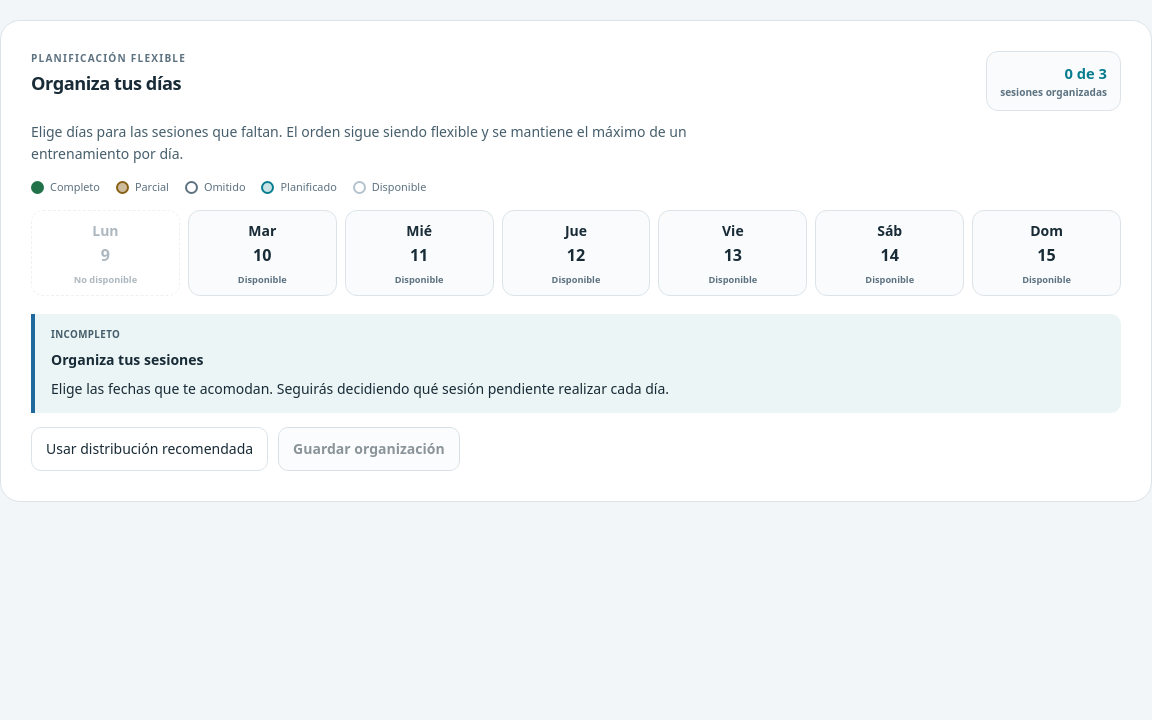
WeeklyTrainingPlanner › applies the spaced recommendation and saves it
Click the button "Usar distribución recomendada" at (150,449), box [31,427,268,471]
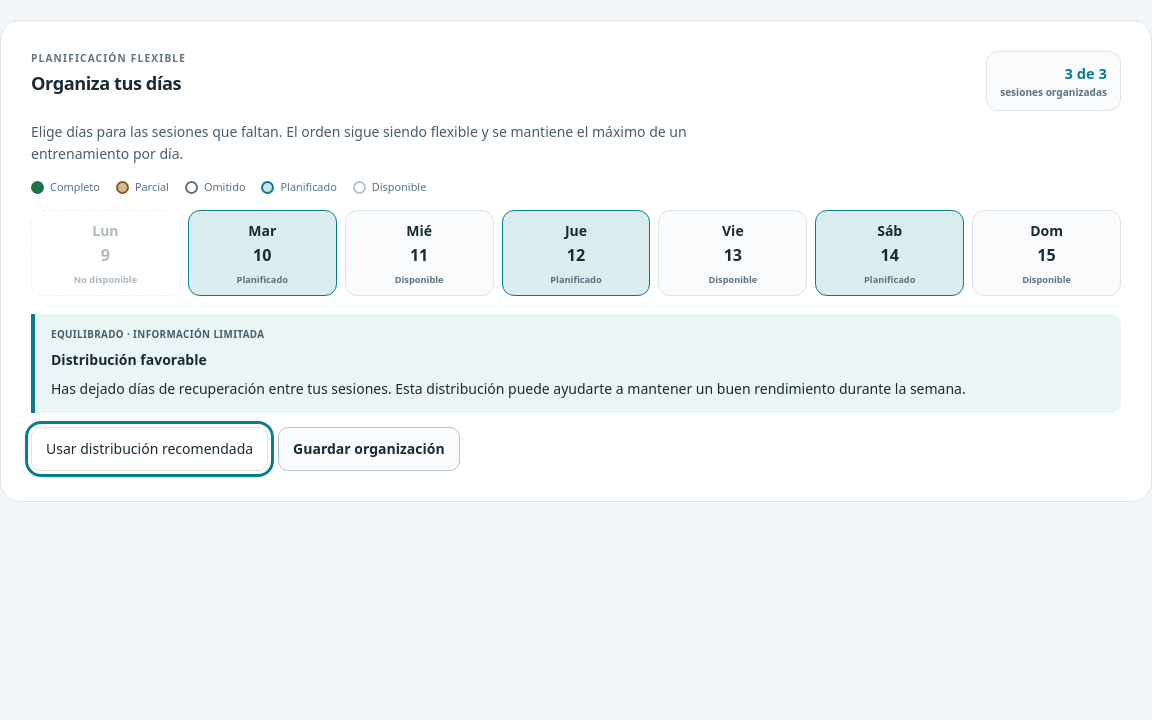
Click the button "Guardar organización" at (369,449), box [278,427,460,471]
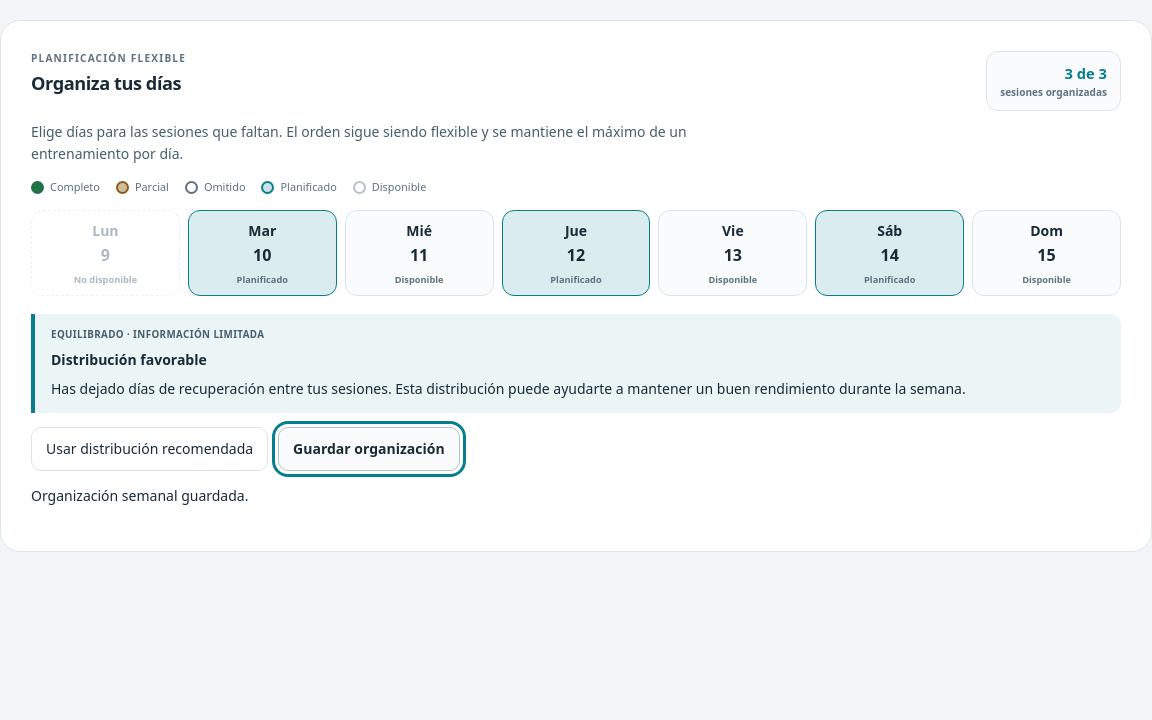
expect the text "Organización semanal guardada." is shown: met, box [31,486,248,505]
